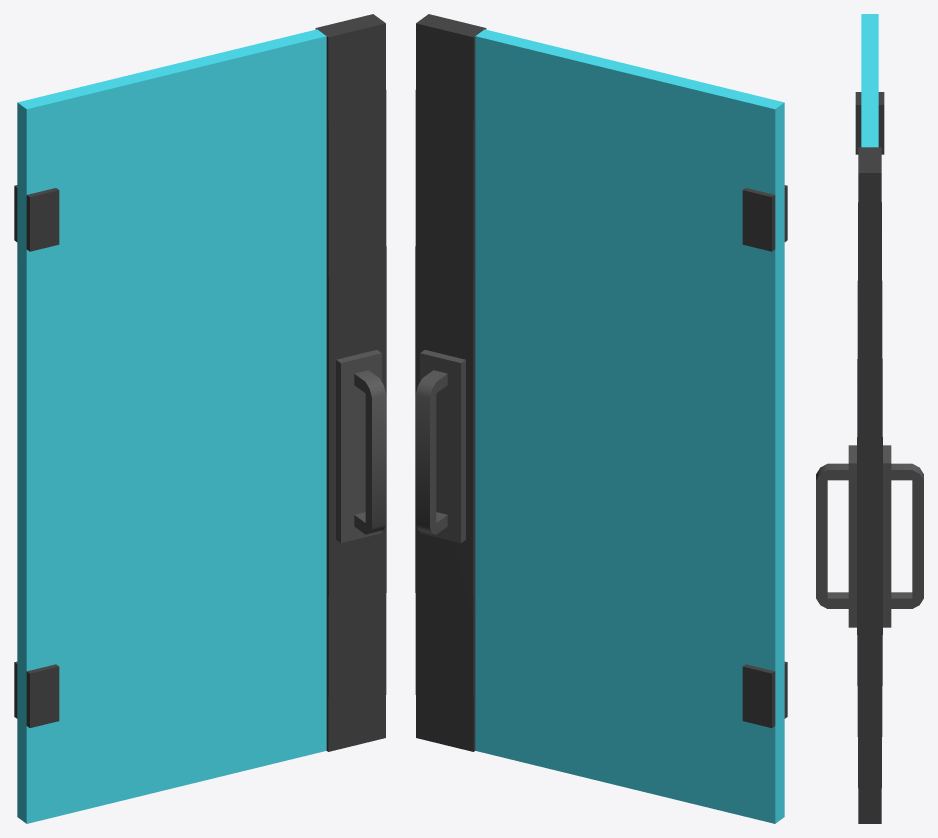
Rendered from SM_Buildings_House_05_Door_L.fbx.
The picture shows the model from 3 angles, left to right: view 1: azimuth 30°, elevation 25°; view 2: azimuth 150°, elevation 25°; view 3: azimuth 270°, elevation 25°; orthographic projection. The views are drawn at different scales.
Parts seen in each view (by area): view 1: SM_Buildings_House_05_Door_L; view 2: SM_Buildings_House_05_Door_L; view 3: SM_Buildings_House_05_Door_L.
Part boxes in pixels (bbox=[...]): SM_Buildings_House_05_Door_L: bbox=[14, 14, 386, 823]; SM_Buildings_House_05_Door_L: bbox=[415, 14, 787, 823]; SM_Buildings_House_05_Door_L: bbox=[816, 14, 923, 823].
Size of the model in its own units: 1.32 by 2.51 by 0.3773.
